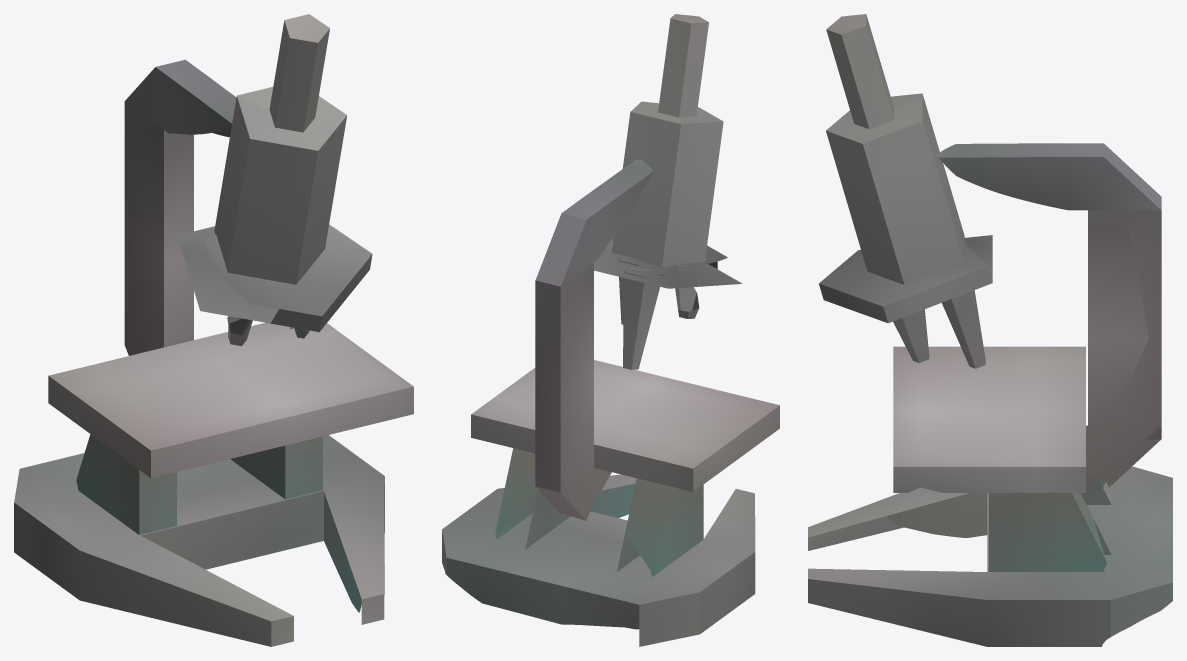
File: microscope.gltf
3 renders of one model, left to right at view 1: azimuth 30°, elevation 25°; view 2: azimuth 150°, elevation 25°; view 3: azimuth 270°, elevation 25°, orthographic. The views are drawn at different scales.
Visible parts, largest first — view 1: Microscope; view 2: Microscope; view 3: Microscope.
Boxes of the visible parts, bbox=[...] form: Microscope: bbox=[14, 14, 413, 646]; Microscope: bbox=[442, 14, 779, 646]; Microscope: bbox=[808, 14, 1172, 646].
Bounding box in the file's own units: 0.2969 × 0.5518 × 0.3275.
Materials: 1 (1 with a texture image).
